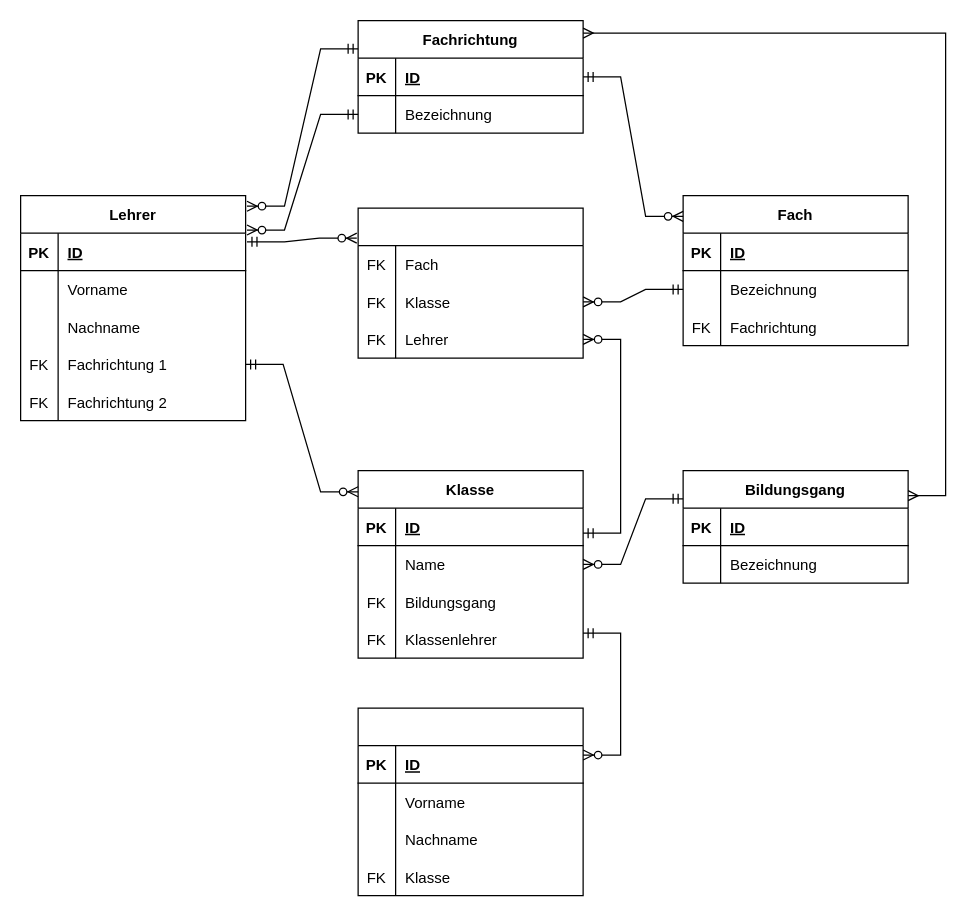
This 966x916 diagram has some shape labels left out. The box of each missing label's shape, as (x1, y1, x2, y2) in pixels:
Schüler: (357, 707, 583, 896)
Unterricht: (357, 207, 583, 358)
